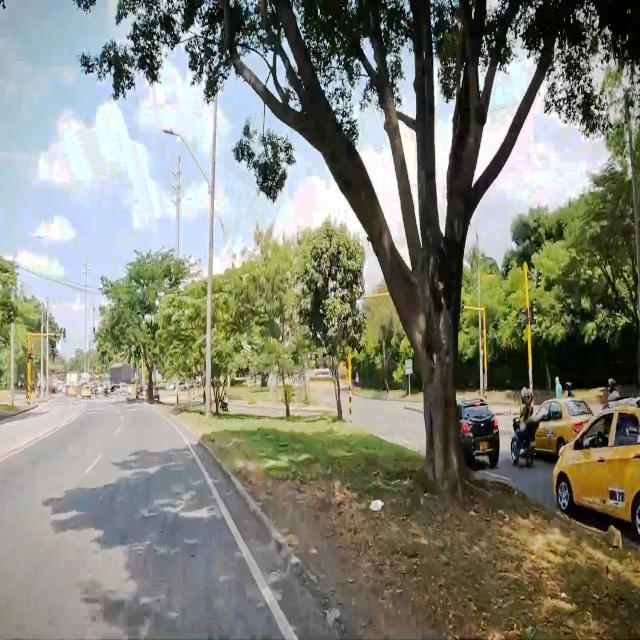license_plate: (608, 486, 625, 508)
